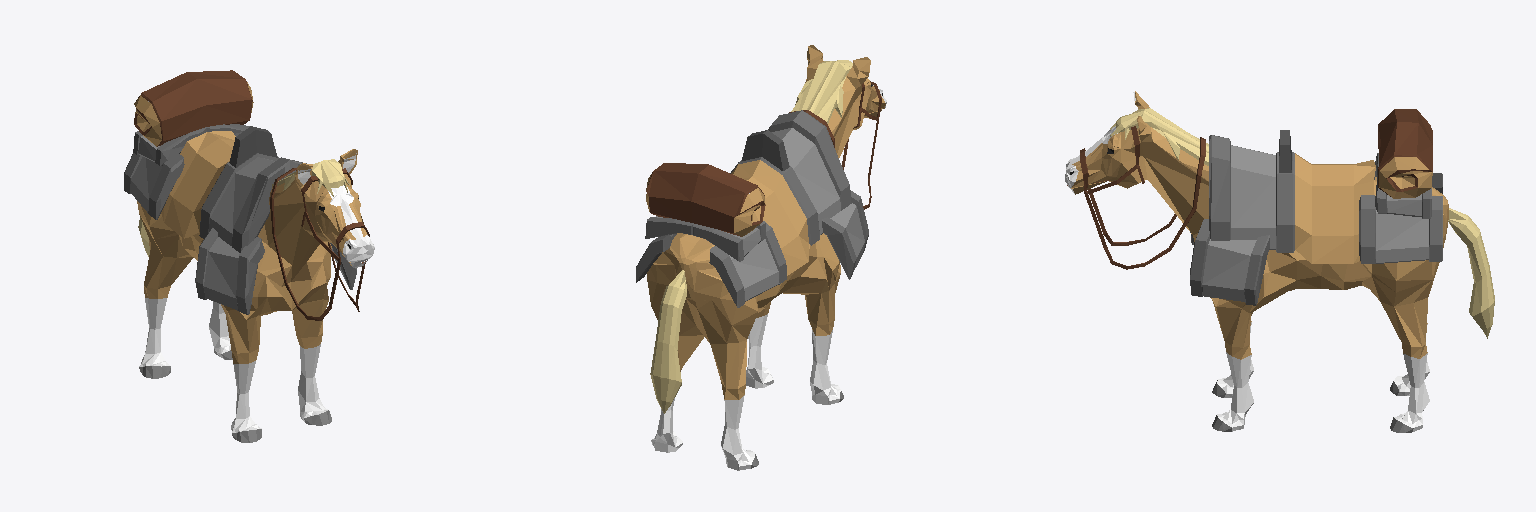
3 renders of one model, left to right at view 1: azimuth 30°, elevation 25°; view 2: azimuth 150°, elevation 25°; view 3: azimuth 270°, elevation 25°, orthographic.
Parts seen in each view (by area): view 1: Cylinder; view 2: Cylinder; view 3: Cylinder.
Boxes of the visible parts, <box> form: Cylinder: <box>124,70,374,442</box>; Cylinder: <box>636,45,886,470</box>; Cylinder: <box>1065,91,1494,432</box>.
Bounding box in the file's own units: 1.08 × 2.14 × 2.73.
Materials: 1 (1 with a texture image).